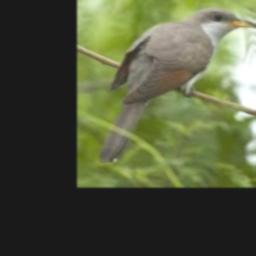Cuckoo: (98, 8, 256, 162)
